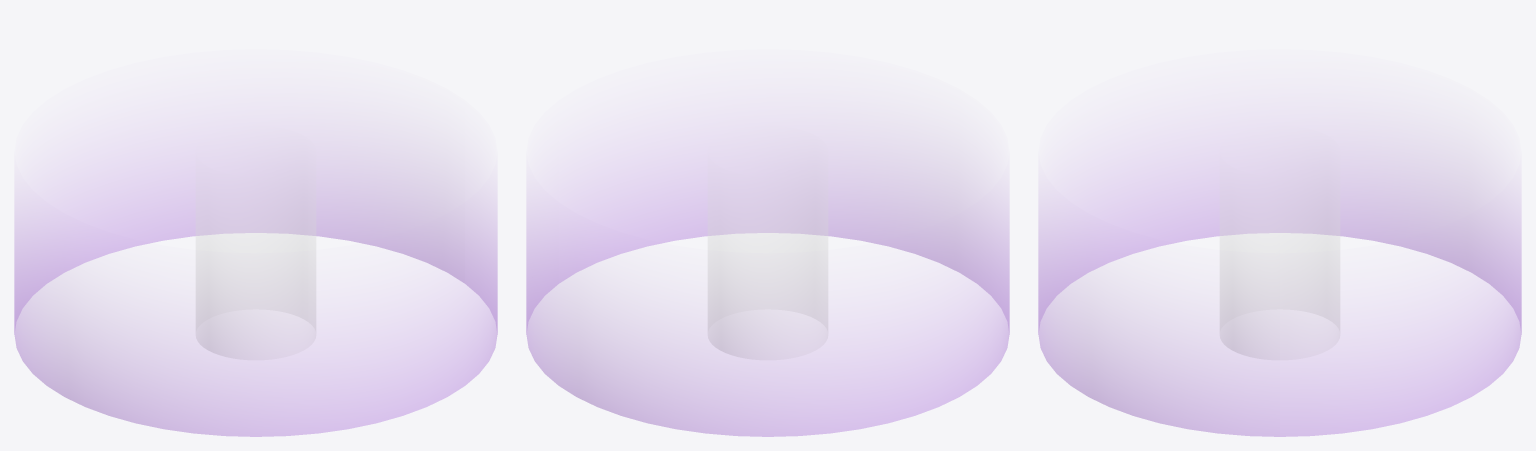
The model's file is fx_pillar_cosmic.glb.
3 views of the same model, side by side, from view 1: azimuth 30°, elevation 25°; view 2: azimuth 150°, elevation 25°; view 3: azimuth 270°, elevation 25° (orthographic).
Visible parts, largest first — view 1: fx_pillar_cosmic; view 2: fx_pillar_cosmic; view 3: fx_pillar_cosmic.
Part boxes in pixels (x1,y1,x2,y2): fx_pillar_cosmic: [14, 107, 497, 436]; fx_pillar_cosmic: [526, 107, 1009, 436]; fx_pillar_cosmic: [1038, 107, 1521, 436].
Size of the model in its own units: 2 by 1 by 2.
2 materials, 2 textured.
